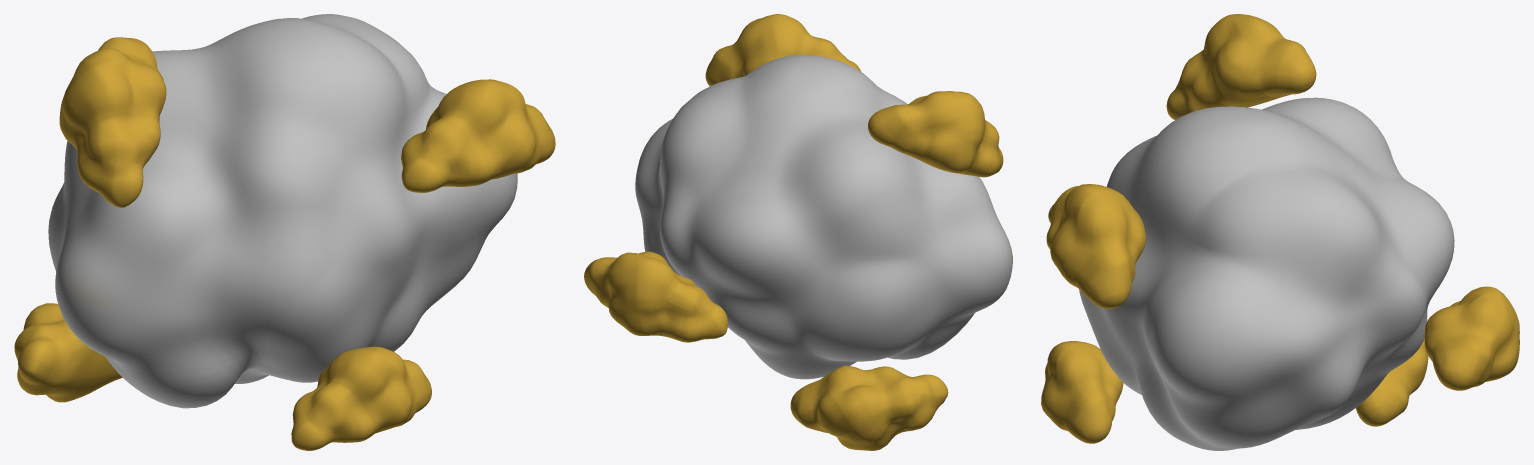
The model's file is planetB.gltf.
3 renders of one model, left to right at view 1: azimuth 30°, elevation 25°; view 2: azimuth 150°, elevation 25°; view 3: azimuth 270°, elevation 25°, orthographic. The views are drawn at different scales.
Visible parts, largest first — view 1: _Group40491; view 2: _Group40491; view 3: _Group40491.
Part boxes in pixels (<box>): _Group40491: <box>14,14,555,450</box>; _Group40491: <box>584,14,1012,450</box>; _Group40491: <box>1041,14,1519,450</box>.
Bounding box in the file's own units: 3.32 × 2.86 × 3.32.
Materials: 1 (1 with a texture image).
